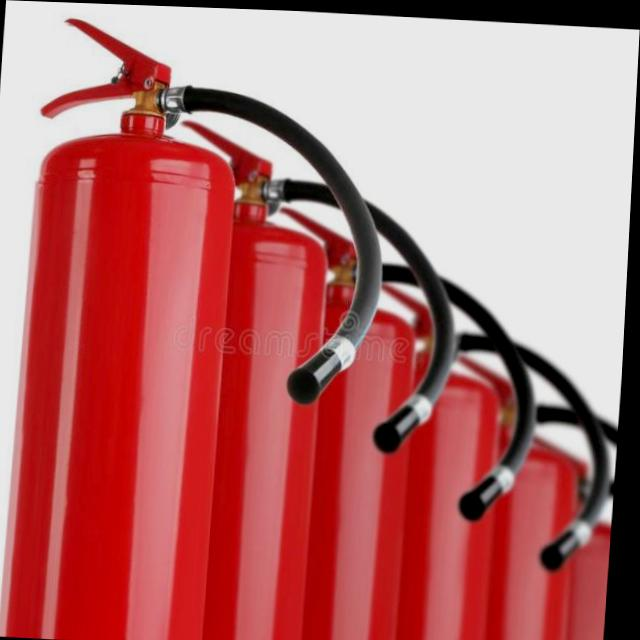FireExtinguisher: (0, 11, 403, 640), (122, 113, 476, 640), (233, 200, 555, 640), (342, 277, 626, 640)
